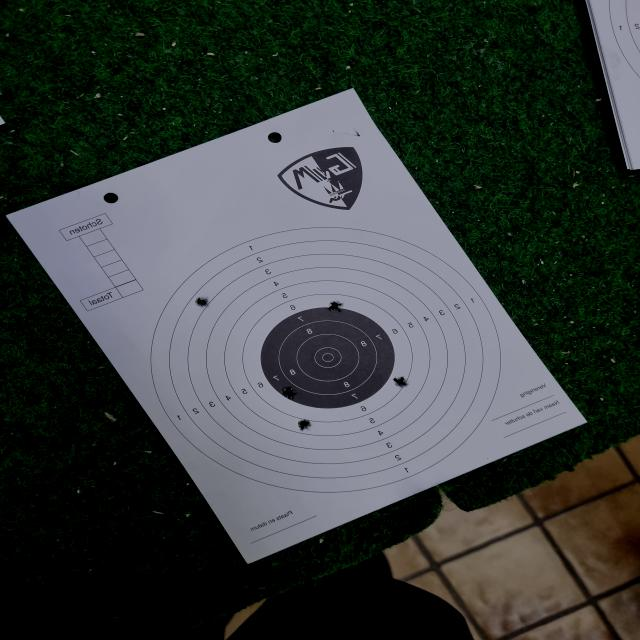3: (195, 297, 210, 308)
6: (392, 376, 410, 389), (298, 418, 312, 432)
7: (281, 387, 296, 401), (328, 301, 343, 312)
Target: (149, 227, 502, 493)
black_contour: (257, 308, 388, 409)
